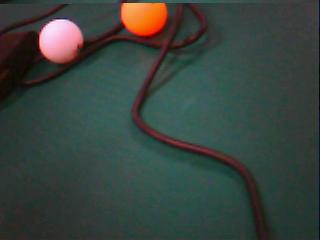oball: (120, 3, 168, 36)
